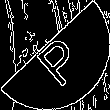P_NW: (26, 24, 84, 86)
